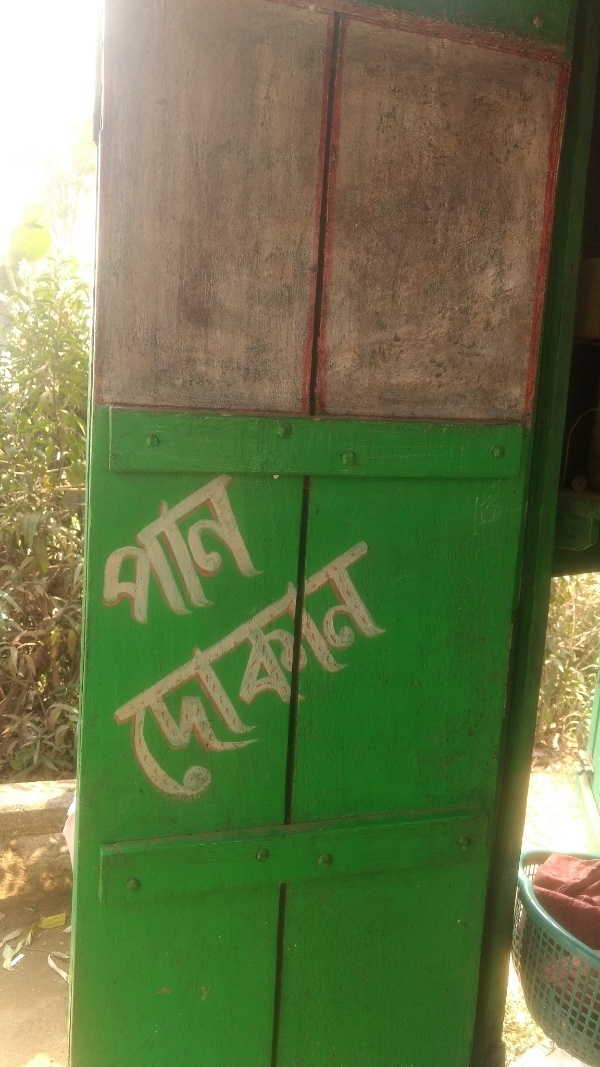text: (113, 529, 128, 823), (129, 529, 144, 823), (145, 529, 160, 823), (161, 529, 176, 823), (177, 529, 192, 823), (193, 529, 208, 823), (209, 529, 224, 823), (225, 529, 240, 823), (241, 529, 256, 823), (257, 529, 272, 823), (273, 529, 288, 823), (289, 529, 304, 823), (305, 529, 320, 823), (321, 529, 336, 823), (337, 529, 352, 823), (353, 529, 368, 823), (369, 529, 384, 823), (385, 529, 400, 823), (401, 529, 416, 823), (417, 529, 432, 823), (113, 466, 128, 661), (129, 466, 144, 661), (145, 466, 160, 661), (161, 466, 176, 661), (177, 466, 192, 661), (193, 466, 208, 661), (209, 466, 224, 661), (225, 466, 240, 661), (241, 466, 256, 661), (257, 466, 272, 661), (98, 466, 112, 661), (104, 529, 112, 823), (433, 529, 435, 823), (273, 466, 274, 661)
